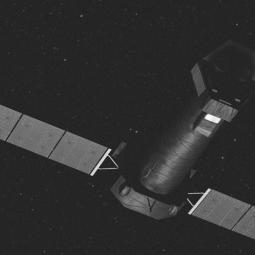xmm_newton: (7, 53, 255, 242)
